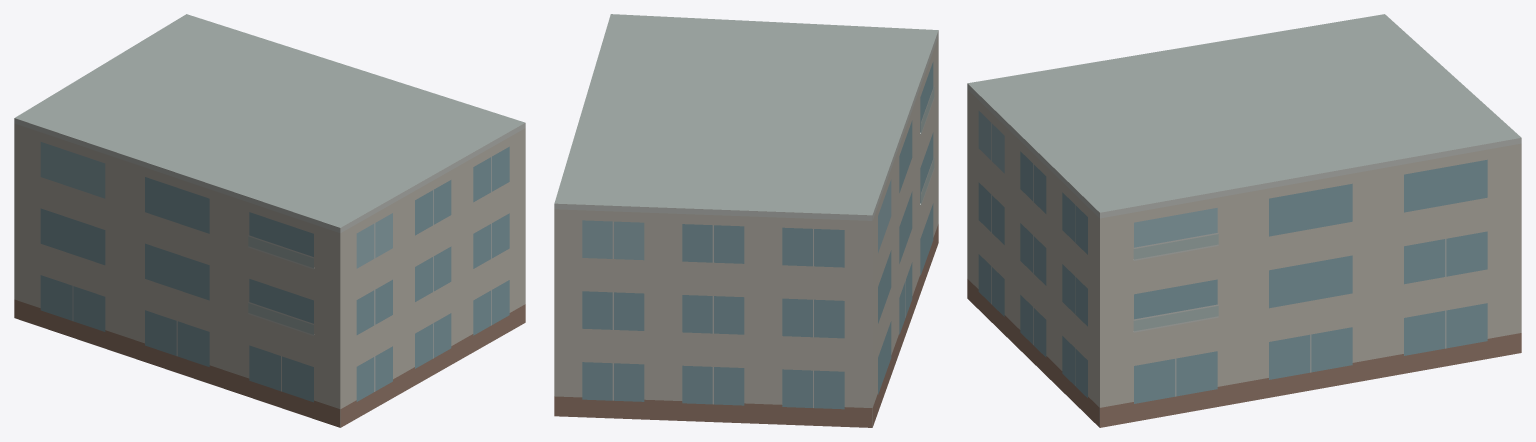
File: survey-upis-32598898.glb
3 views of the same model, side by side, from view 1: azimuth 30°, elevation 25°; view 2: azimuth 150°, elevation 25°; view 3: azimuth 270°, elevation 25° (orthographic). The views are drawn at different scales.
Parts seen in each view (by area): view 1: survey-upis-32598898.tmp; view 2: survey-upis-32598898.tmp; view 3: survey-upis-32598898.tmp.
Boxes of the visible parts, x1,y1,x2,y2 form: survey-upis-32598898.tmp: (14,14,525,427); survey-upis-32598898.tmp: (554,14,938,427); survey-upis-32598898.tmp: (967,14,1521,427).
Size of the model in its own units: 18.14 by 9.15 by 21.38.
